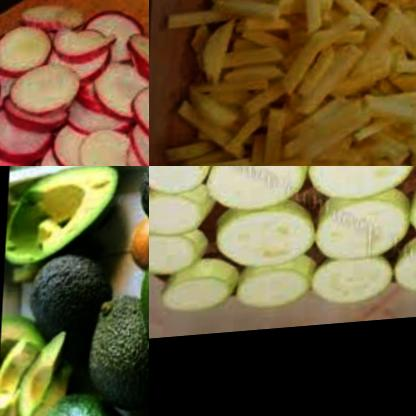avocado: (15, 261, 100, 398), (4, 166, 113, 264), (85, 283, 149, 416), (0, 308, 62, 416)
potato: (149, 0, 416, 166)
rediska: (0, 0, 149, 166)
vegetable marrow: (313, 190, 416, 278), (219, 198, 323, 282), (311, 259, 413, 320), (237, 257, 332, 322), (159, 259, 239, 325), (212, 166, 312, 216), (314, 166, 416, 214), (149, 186, 224, 246), (149, 234, 219, 291), (149, 166, 222, 201)
